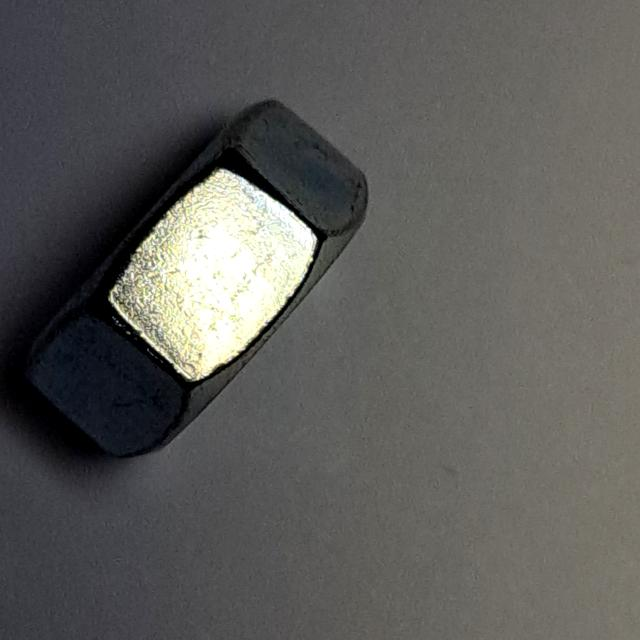Side_Excellent: (4, 83, 398, 470)
